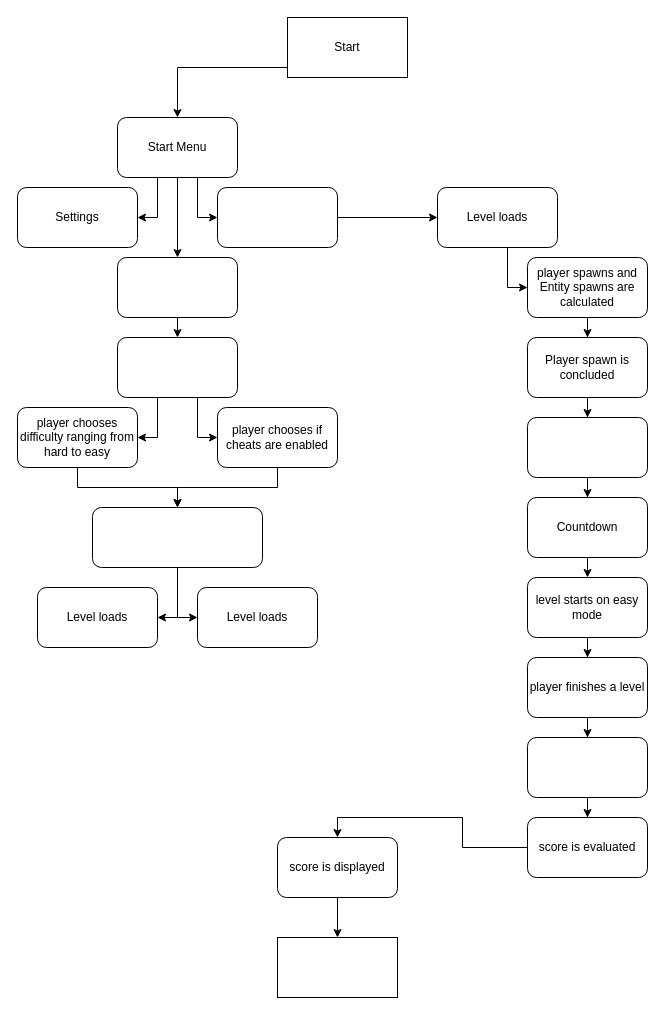
The diagram is 665 pixels wide and 1015 high, and some of its shapes have lost their labels. Here are the shapes that lost their labels. From the top down, the box of each, then its label:
(216, 186, 338, 248): Quick play
(116, 256, 238, 318): Manual Play
(116, 336, 238, 398): level settings are displayed
(526, 416, 648, 478): entity spawns are concluded
(92, 506, 262, 568): player chooses random map or selected map
(526, 736, 648, 798): new level loads until player dies
(276, 936, 398, 998): End
